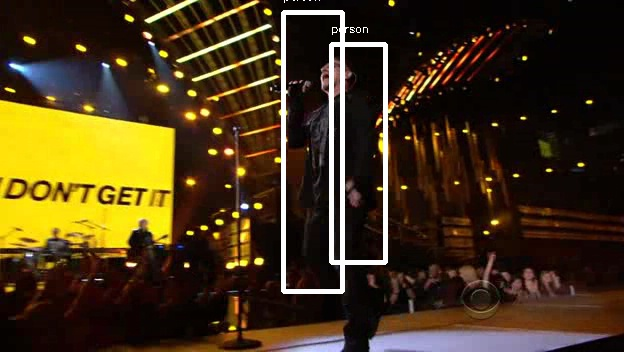person: (296, 58, 372, 238), (293, 58, 369, 238), (299, 58, 375, 238), (296, 55, 372, 235), (296, 61, 372, 241)
target_negative: (424, 143, 533, 322), (510, 111, 624, 184), (564, 221, 599, 345), (401, 283, 496, 307), (258, 3, 390, 19), (559, 4, 574, 54)
